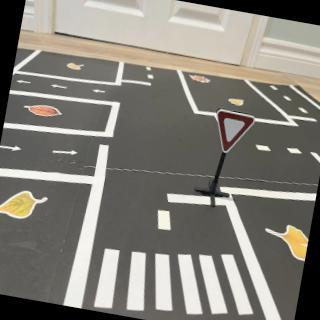road_crosswalk: (91, 227, 270, 320)
road_oneway: (51, 145, 81, 161), (1, 142, 25, 156), (51, 82, 71, 93), (91, 87, 108, 97), (17, 80, 34, 88)
sign_yield: (211, 110, 257, 159)
